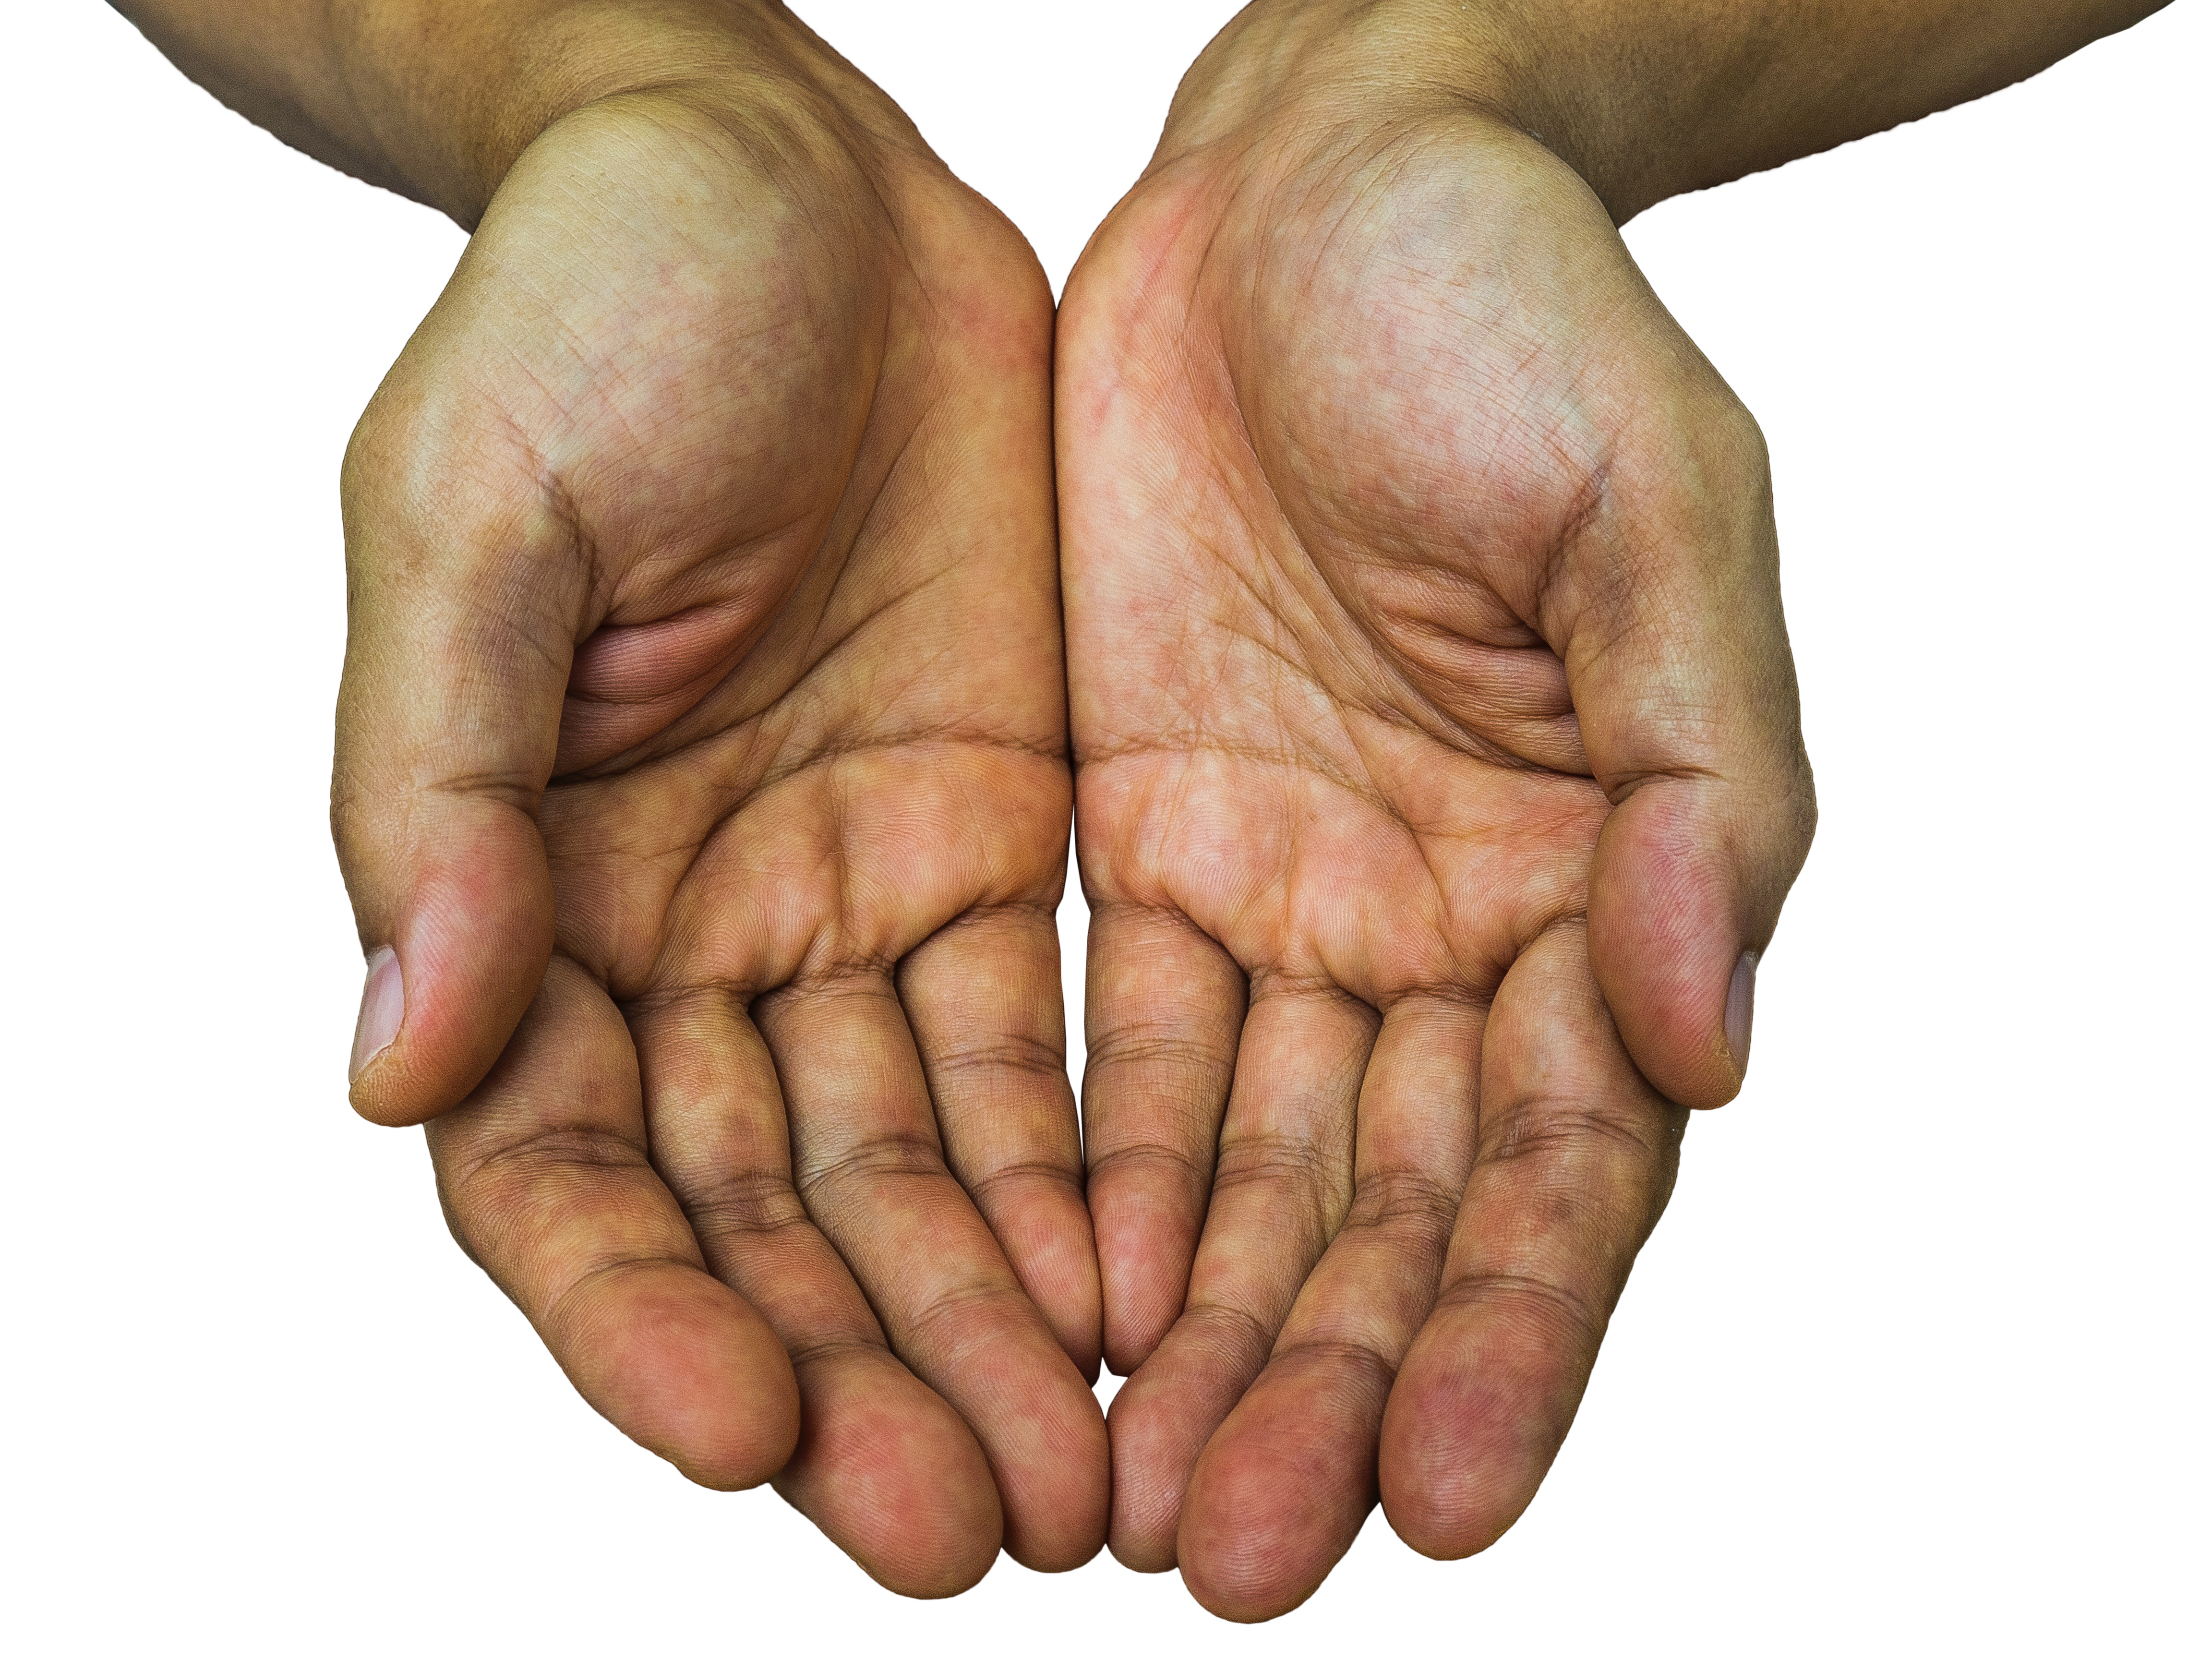hand: (254, 30, 1858, 1640)
